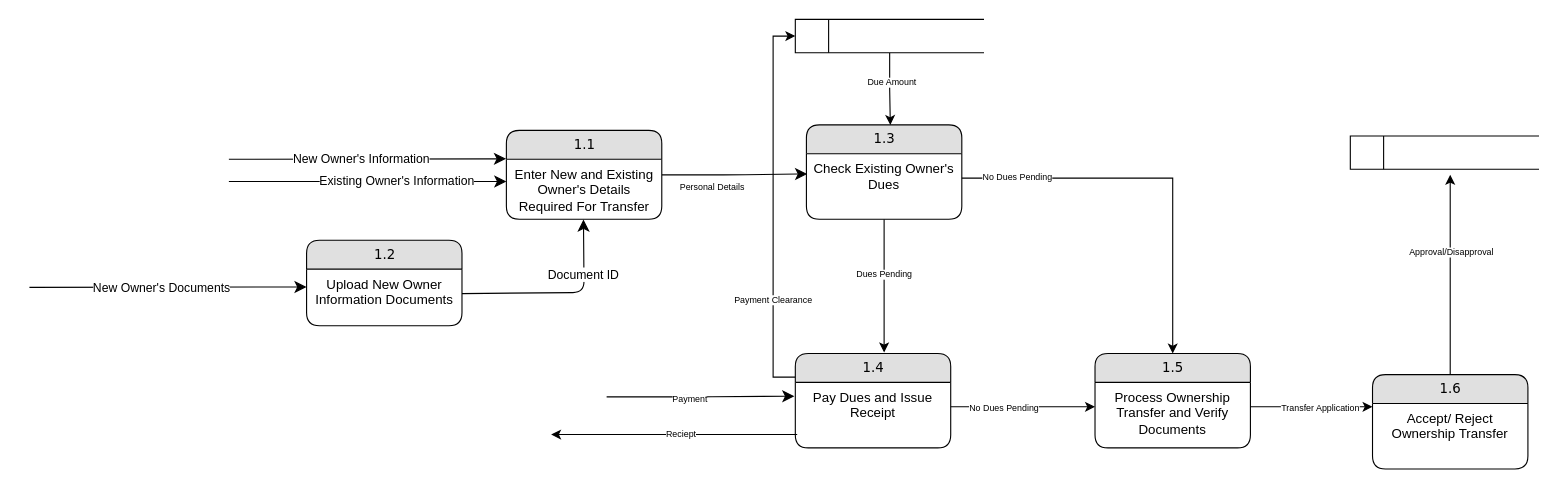
The diagram is 1558 pixels wide and 488 high, and some of its shapes have lost their labels. Here are the shapes that lost their labels. From the top down, the box of each, then its label:
(794, 18, 984, 53): D1 User Dues Record
(1349, 135, 1539, 169): D2 User Record
